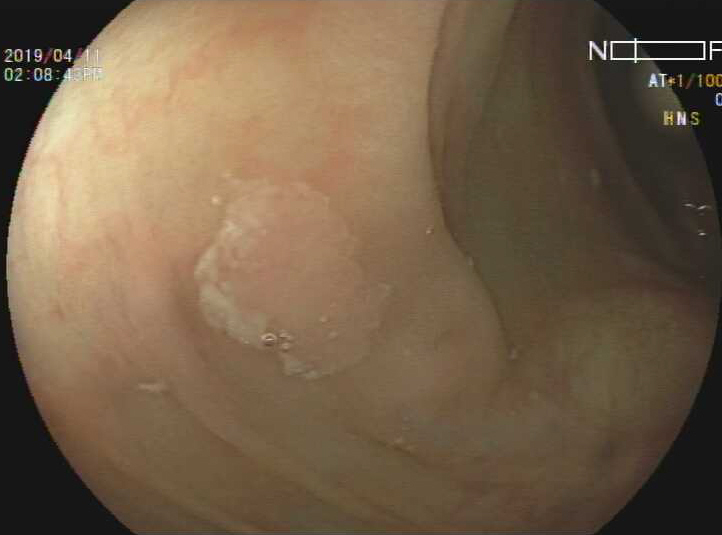others: (193, 178, 392, 382)
